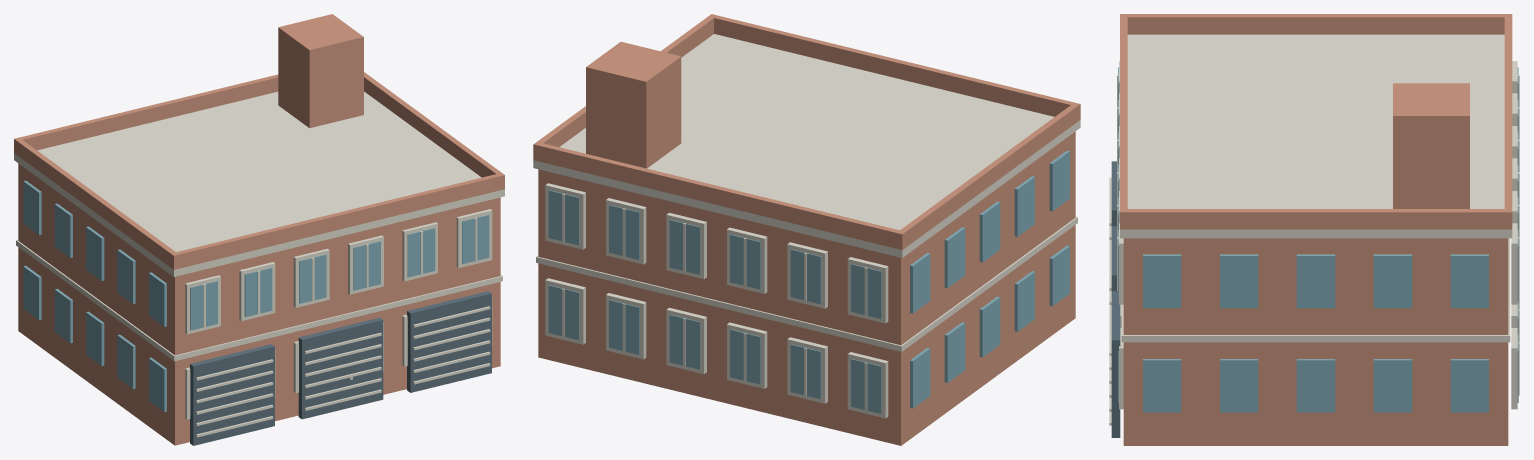
The picture shows the model from 3 angles, left to right: view 1: azimuth 30°, elevation 25°; view 2: azimuth 150°, elevation 25°; view 3: azimuth 270°, elevation 25°; orthographic projection. The views are drawn at different scales.
Visible parts, largest first — view 1: fire-station-brick, fire-station-concrete, fire-station-dark, fire-station-glass; view 2: fire-station-brick, fire-station-concrete, fire-station-glass; view 3: fire-station-brick, fire-station-concrete, fire-station-glass, fire-station-dark.
Part boxes in pixels (<box>): fire-station-brick: <box>14,14,504,445</box>; fire-station-concrete: <box>14,91,504,437</box>; fire-station-dark: <box>190,291,491,445</box>; fire-station-glass: <box>23,180,489,415</box>; fire-station-brick: <box>533,14,1080,445</box>; fire-station-concrete: <box>533,34,1080,418</box>; fire-station-glass: <box>548,150,1069,413</box>; fire-station-brick: <box>1120,14,1512,445</box>; fire-station-concrete: <box>1109,34,1519,425</box>; fire-station-glass: <box>1118,67,1518,412</box>; fire-station-dark: <box>1111,161,1120,437</box>.
Size of the model in its own units: 12.2 by 9 by 10.67.
